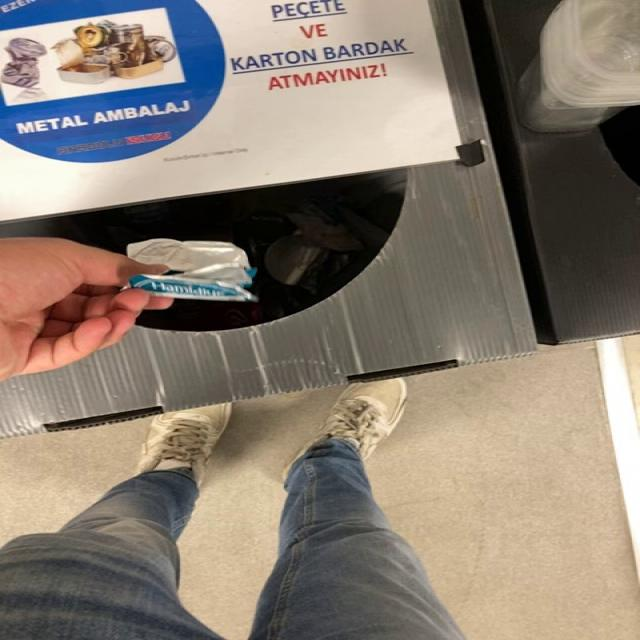bin: (0, 0, 536, 438)
metal: (127, 238, 257, 302)
